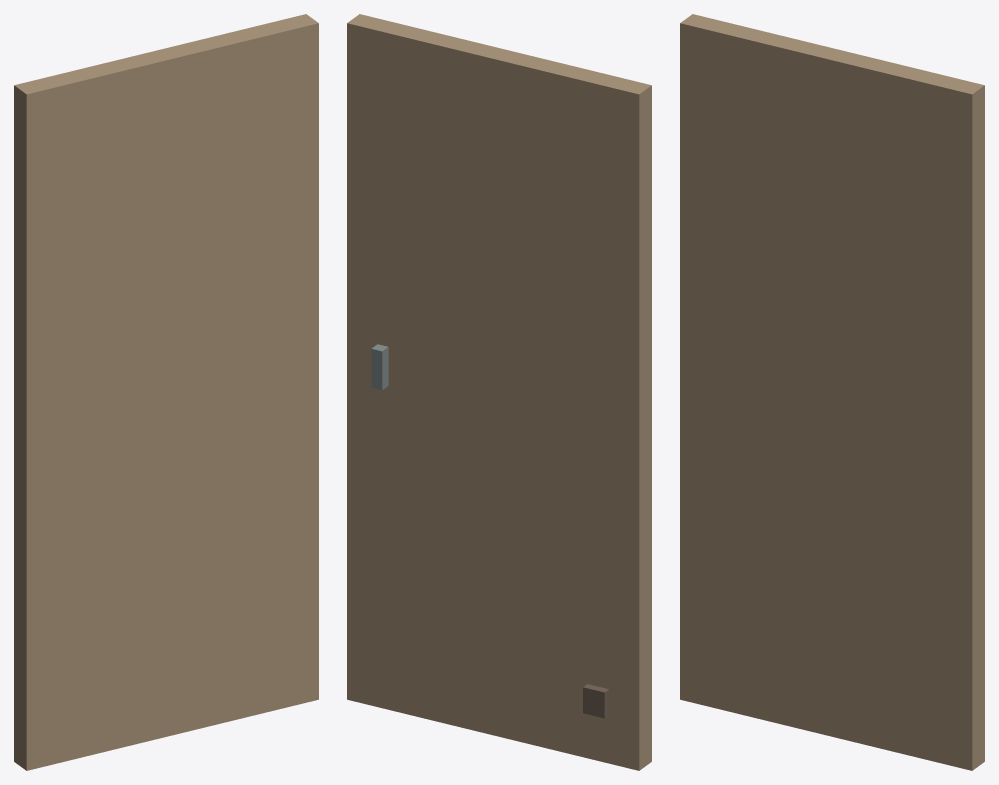
The model's file is door_closed.glb.
The picture shows the model from 3 angles, left to right: view 1: azimuth 30°, elevation 25°; view 2: azimuth 150°, elevation 25°; view 3: azimuth 330°, elevation 25°; orthographic projection.
Parts seen in each view (by area): view 1: door_closed; view 2: door_closed; view 3: door_closed.
Boxes of the visible parts, x1,y1,x2,y2 form: door_closed: (14, 14, 318, 770); door_closed: (347, 14, 651, 770); door_closed: (680, 14, 984, 770).
Bounding box in the file's own units: 0.94 × 2.08 × 0.1125.
